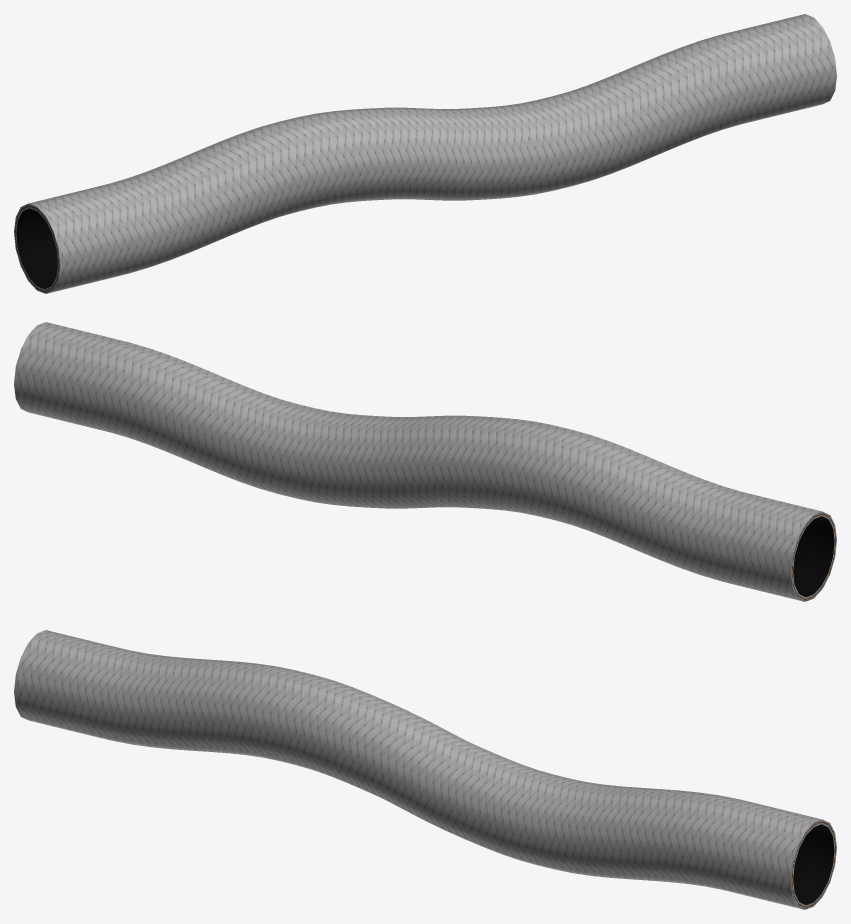
The picture shows the model from 3 angles, top to bottom: view 1: azimuth 30°, elevation 25°; view 2: azimuth 150°, elevation 25°; view 3: azimuth 330°, elevation 25°; orthographic projection.
Parts seen in each view (by area): view 1: Stainless_Steel_Braid-28.001; view 2: Stainless_Steel_Braid-28.001; view 3: Stainless_Steel_Braid-28.001.
Boxes of the visible parts, <box> form: Stainless_Steel_Braid-28.001: <box>14,14,836,293</box>; Stainless_Steel_Braid-28.001: <box>14,322,836,601</box>; Stainless_Steel_Braid-28.001: <box>14,630,836,909</box>.
Bounding box in the file's own units: 0.5 × 0.077 × 0.0516.
2 materials, 2 textured.
